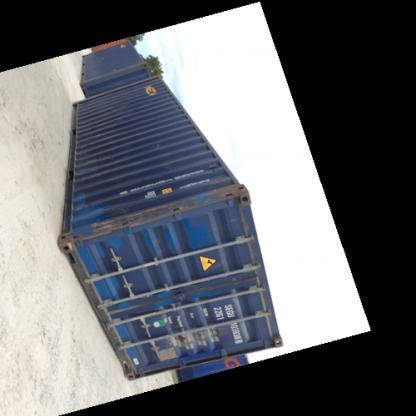Damage: (86, 200, 188, 242), (172, 323, 220, 351), (201, 182, 247, 210), (153, 138, 173, 174), (90, 106, 112, 138)
